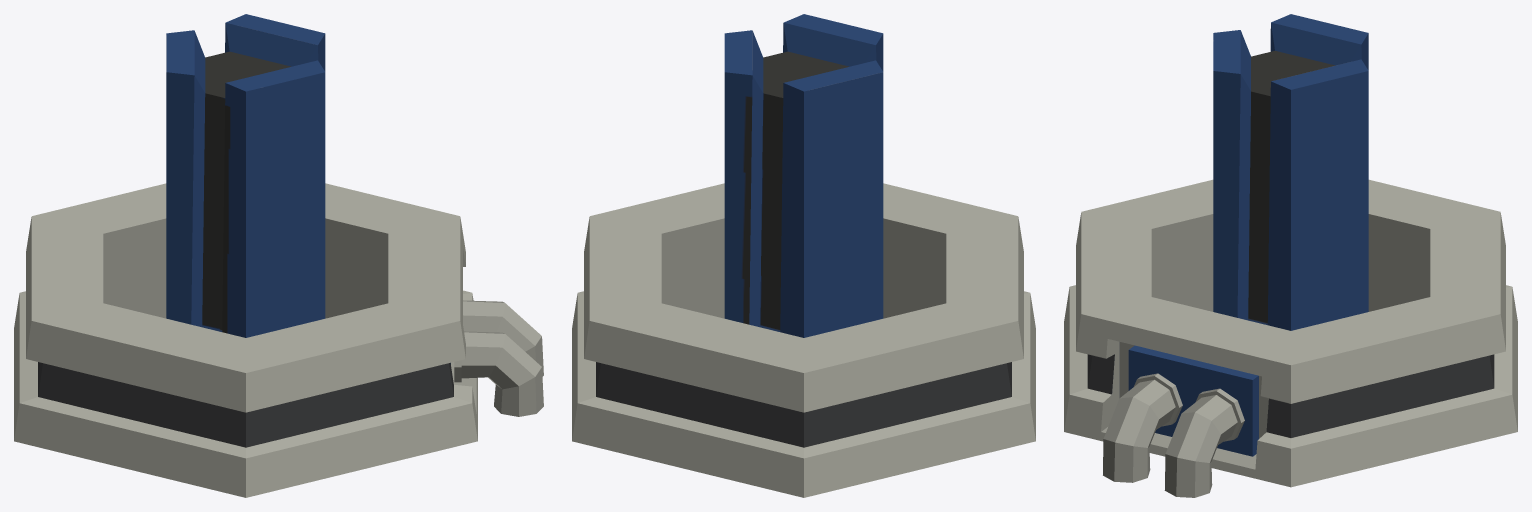
File: 检测底.fbx
The picture shows the model from 3 angles, left to right: view 1: azimuth 30°, elevation 25°; view 2: azimuth 150°, elevation 25°; view 3: azimuth 270°, elevation 25°; orthographic projection. The views are drawn at different scales.
Parts seen in each view (by area): view 1: 柱体.023; view 2: 柱体.023; view 3: 柱体.023.
Boxes of the visible parts, x1,y1,x2,y2 form: 柱体.023: [14, 14, 543, 497]; 柱体.023: [572, 14, 1035, 497]; 柱体.023: [1064, 14, 1517, 497].
Bounding box in the file's own units: 218 × 151 × 185.
Materials: 1 (1 with a texture image).
